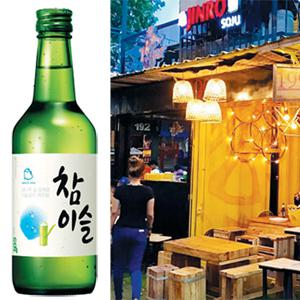soju: (12, 6, 99, 294)
